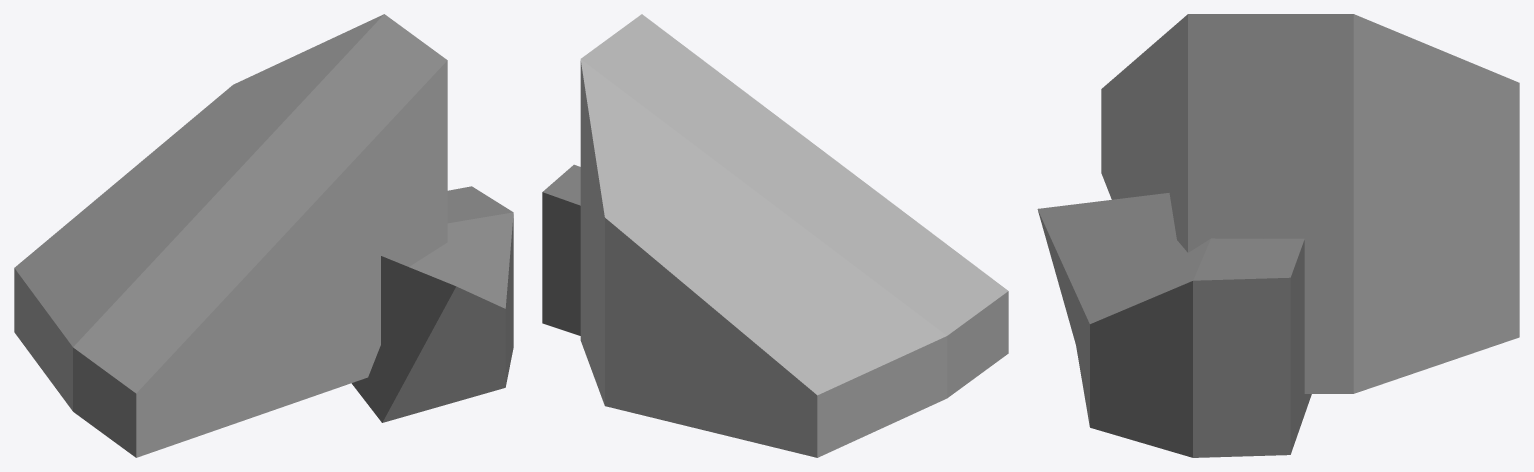
Rendered from rock-type5-04-grey.glb.
The picture shows the model from 3 angles, left to right: view 1: azimuth 30°, elevation 25°; view 2: azimuth 150°, elevation 25°; view 3: azimuth 270°, elevation 25°; orthographic projection. The views are drawn at different scales.
Parts seen in each view (by area): view 1: Rock_Type5_04_mesh; view 2: Rock_Type5_04_mesh; view 3: Rock_Type5_04_mesh.
Boxes of the visible parts, left/top/right/bottom form: Rock_Type5_04_mesh: left=14, top=14, right=513, bottom=457; Rock_Type5_04_mesh: left=542, top=14, right=1008, bottom=457; Rock_Type5_04_mesh: left=1037, top=14, right=1519, bottom=457.
Bounding box in the file's own units: 1.18 × 0.8351 × 0.911.
Materials: 1 (1 with a texture image).
